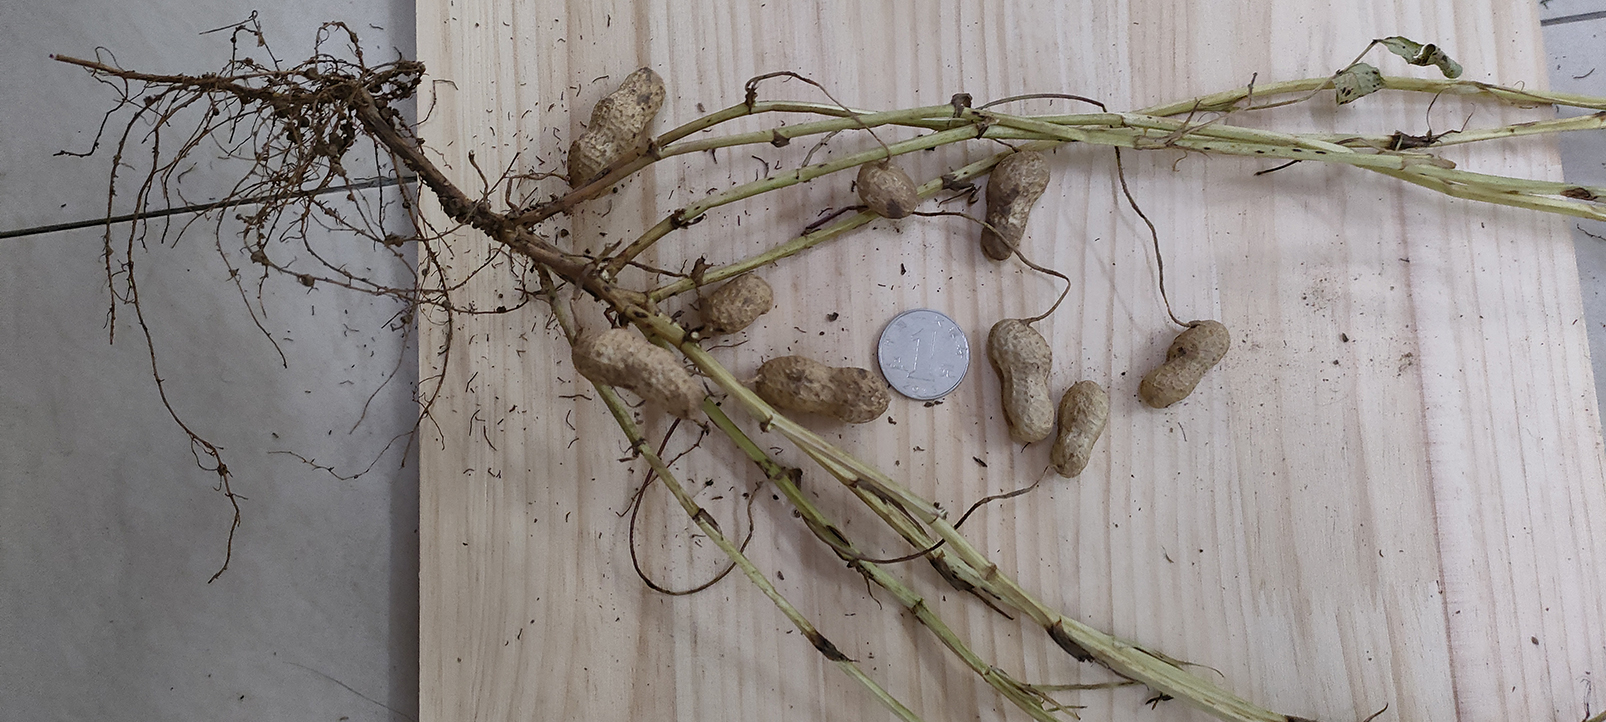h: (572, 323, 700, 418), (566, 63, 664, 187), (756, 354, 891, 423), (988, 318, 1057, 445), (1141, 321, 1230, 407), (1050, 379, 1111, 477), (701, 275, 772, 334), (856, 160, 918, 219)
l: (981, 148, 1051, 259)
